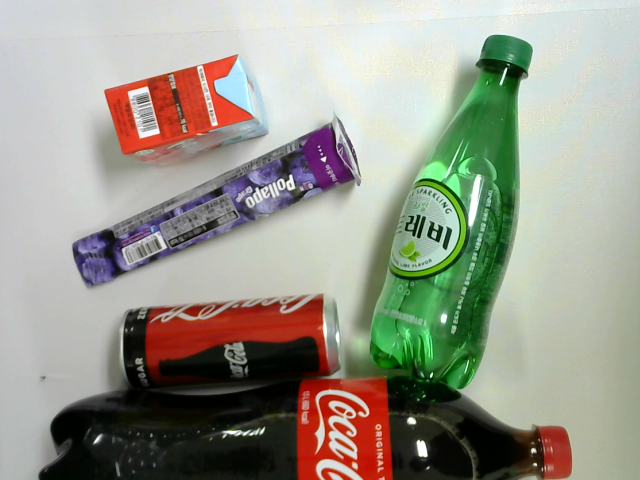Coca_Cola_1.5L: (38, 378, 576, 480)
Coca_Cola_Zero_Can_250ml: (117, 294, 347, 384)
Picnic_Apple: (104, 53, 272, 168)
Polapo_Grape: (72, 114, 364, 290)
Treviraim_500ml: (364, 31, 534, 388)
